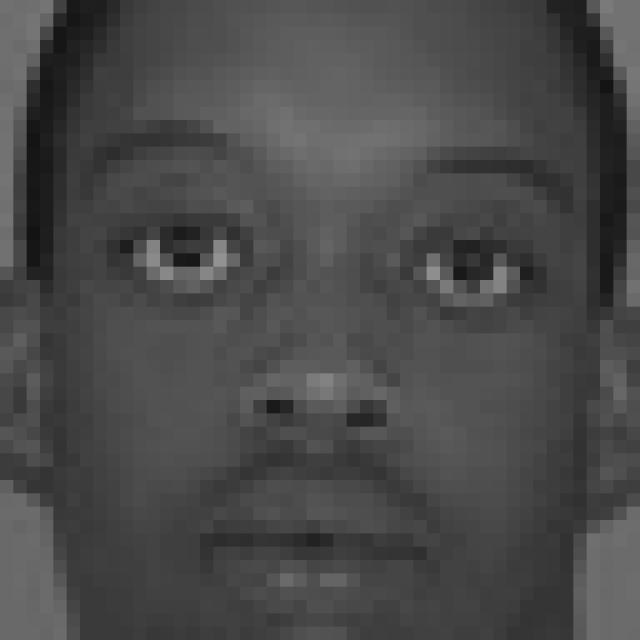neutral: (89, 113, 576, 640)
